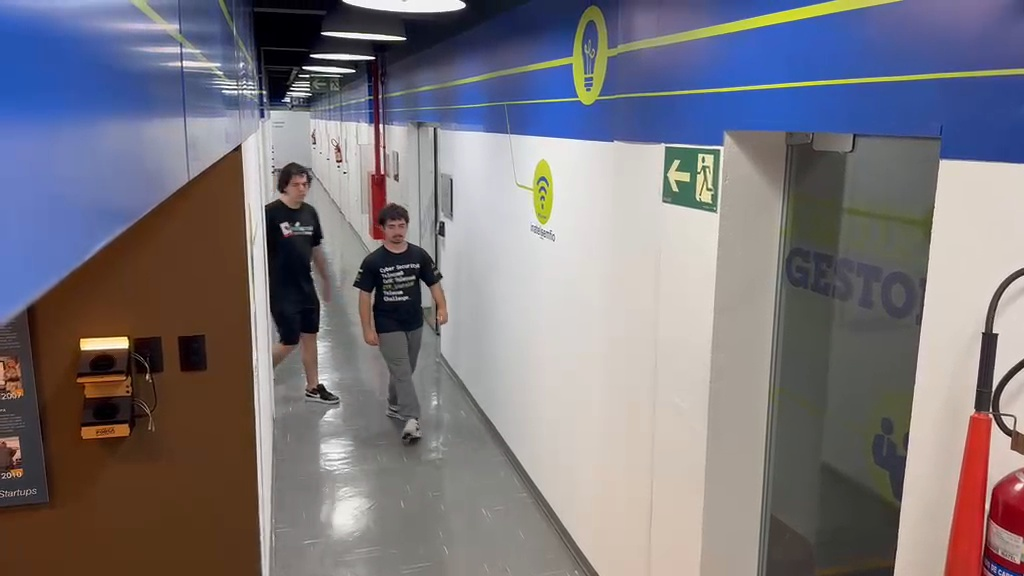person: (353, 202, 449, 443), (265, 163, 341, 403)
